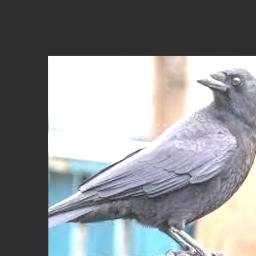Crow: (48, 68, 256, 256)
